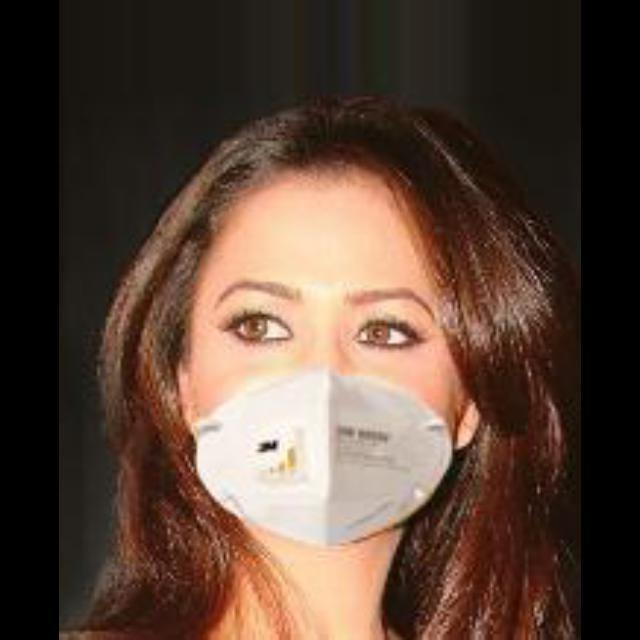suspicion: (154, 150, 556, 578)
